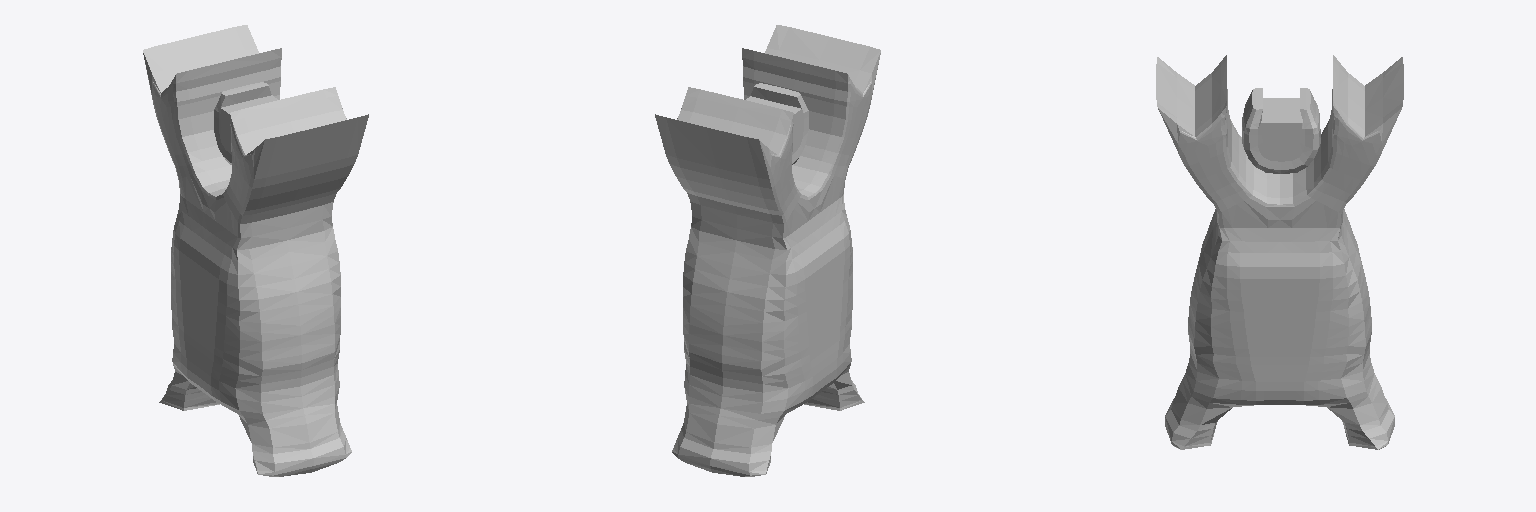
Rendered from Magic_orb_upgrade3 texture.obj.
3 renders of one model, left to right at view 1: azimuth 30°, elevation 25°; view 2: azimuth 150°, elevation 25°; view 3: azimuth 270°, elevation 25°, orthographic.
Visible parts, largest first — view 1: pCube1, pCylinder1; view 2: pCube1, pCylinder1; view 3: pCube1, pCylinder1.
Part boxes in pixels (x1,y1,x2,y2): pCube1: (143, 25, 368, 476); pCylinder1: (214, 82, 277, 164); pCube1: (655, 25, 880, 476); pCylinder1: (746, 83, 808, 164); pCube1: (1156, 55, 1403, 449); pCylinder1: (1242, 88, 1320, 173).
Size of the model in its own units: 2.99 by 8.79 by 5.6.